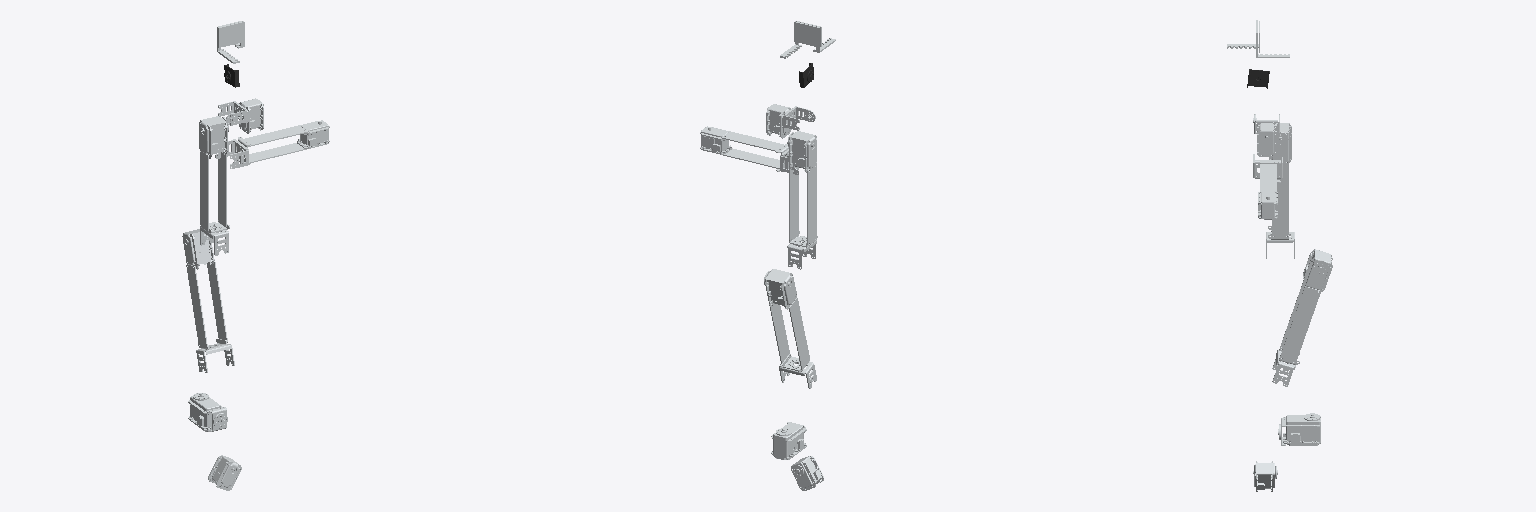
The robot description file, URDF, robot "revel":
<robot name="revel">
   <gazebo>
     <plugin name="gazebo_ros_control" filename="libgazebo_ros_control.so">
       <robotNamespace>/revel/</robotNamespace>
     </plugin>
   </gazebo>

  <link name="world"/>
  <link name="base_link">
    <inertial>
      <origin
        xyz="-0.00133562616624824 -0.00299591002016462 0.0153449295508581"
        rpy="0 0 0" />
      <mass
        value="0.722020764728074" />
      <inertia
        ixx="0.00192032665135544"
        ixy="-1.38171436818506E-05"
        ixz="7.88915046947883E-06"
        iyy="0.00186797485168719"
        iyz="3.14817845967135E-05"
        izz="0.00316707992917207" />
    </inertial>
    <visual>
      <origin
        xyz="0 0 0"
        rpy="0 0 0" />
      <geometry>
        <mesh
          filename="package://svenzva_description/meshes/base_link.STL" />
      </geometry>
      <material
        name="">
        <color
          rgba="0.898039215686275 0.917647058823529 0.929411764705882 1" />
      </material>
    </visual>
    <collision>
      <origin
        xyz="0 0 0"
        rpy="0 0 0" />
      <geometry>
        <mesh
          filename="package://svenzva_description/meshes/base_link.STL" />
      </geometry>
    </collision>
  </link>

  <joint name="world_joint" type="fixed">
    <parent link="world"/>
    <child link="base_link"/>
  </joint>

  <link
    name="link_1">
    <inertial>
      <origin
        xyz="-0.00528149564542819 2.92409530103649E-05 0.0481308455186285"
        rpy="0 0 0" />
      <mass
        value="0.095038974095265" />
      <inertia
        ixx="0.00048302"
        ixy="0.00058791"
        ixz="2.1e-7"
        iyy="3.938e-5"
        iyz="1.7e-7"
        izz="2.65e-5" />
    </inertial>
    <visual>
      <origin
        xyz="0 0 0"
        rpy="0 0 0" />
      <geometry>
        <mesh
          filename="package://svenzva_description/meshes/link_1.STL" />
      </geometry>
      <material
        name="">
        <color
          rgba="0.898039215686275 0.917647058823529 0.929411764705882 1" />
      </material>
    </visual>
    <collision>
      <origin
        xyz="0 0 0"
        rpy="0 0 0" />
      <geometry>
        <mesh
          filename="package://svenzva_description/meshes/link_1.STL" />
      </geometry>
    </collision>
  </link>
  <joint
    name="joint_1"
    type="revolute">
    <origin
      xyz="0 0 0.0762"
      rpy="0 0 0" />
    <parent
      link="base_link" />
    <child
      link="link_1" />
    <axis
      xyz="0 0 -1" />
    <limit
      lower="-3.14"
      upper="3.14"
      effort="100"
      velocity="10" />
  </joint>
  <link
    name="link_2">
    <inertial>
      <origin
        xyz="8.17940782230075E-07 0.125408839850757 0.0120693662786398"
        rpy="0 0 0" />
      <mass
        value="0.350557648873674" />
      <inertia
        ixx="0.00290049583666862"
        ixy="-4.66260243339681E-09"
        ixz="-1.74520760929758E-09"
        iyy="0.000201563465404586"
        iyz="0.000261870918148287"
        izz="0.00282768721300917" />
    </inertial>
    <visual>
      <origin
        xyz="0 0 0"
        rpy="0 0 0" />
      <geometry>
        <mesh
          filename="package://svenzva_description/meshes/link_2.STL" />
      </geometry>
      <material
        name="">
        <color
          rgba="0.898039215686275 0.917647058823529 0.929411764705882 1" />
      </material>
    </visual>
    <collision>
      <origin
        xyz="0 0 0"
        rpy="0 0 0" />
      <geometry>
        <mesh
          filename="package://svenzva_description/meshes/link_2.STL" />
      </geometry>
    </collision>
  </link>
  <joint
    name="joint_2"
    type="revolute">
    <origin
      xyz="-0.007325 0 0.10542"
      rpy="1.5708 0 -1.5708" />
    <parent
      link="link_1" />
    <child
      link="link_2" />
    <axis
      xyz="0 0 -1" />
    <limit
      lower="-2"
      upper="2"
      effort="100"
      velocity="10" />
  </joint>
  <link
    name="link_3">
    <inertial>
      <origin
        xyz="-0.00224918997054324 0.0725742731372729 0.0140957004144005"
        rpy="0 0 0" />
      <mass
        value="0.285860881806706" />
      <inertia
        ixx=".037638726"
        ixy="-0.000981953"
        ixz="-0.000055716"
        iyy="0.002015035"
        iyz="0.001841555"
        izz="0.037151960" />
    </inertial>
    <visual>
      <origin
        xyz="0 0 0"
        rpy="0 0 0" />
      <geometry>
        <mesh
          filename="package://svenzva_description/meshes/link_3.STL" />
      </geometry>
      <material
        name="">
        <color
          rgba="0.898039215686275 0.917647058823529 0.929411764705882 1" />
      </material>
    </visual>
    <collision>
      <origin
        xyz="0 0 0"
        rpy="0 0 0" />
      <geometry>
        <mesh
          filename="package://svenzva_description/meshes/link_3.STL" />
      </geometry>
    </collision>
  </link>
  <joint
    name="joint_3"
    type="revolute">
    <origin
      xyz="0 0.2277 0.00635"
      rpy="3.1416 0 3.1416" />
    <parent
      link="link_2" />
    <child
      link="link_3" />
    <axis
      xyz="0 0 -1" />
    <limit
      lower="-2"
      upper="2"
      effort="100"
      velocity="10" />
  </joint>
  <link
    name="link_4">
    <inertial>
      <origin
        xyz="4.94200978125581E-05 0.00446272782448867 0.0502025183837943"
        rpy="0 0 0" />
      <mass
        value="0.236769" />
      <inertia
        ixx="0.0070477"
        ixy="-0.000006265"
        ixz="0.000000363"
        iyy="0.006356422"
        iyz="0.000438258"
        izz="0.001135842" />
    </inertial>
    <visual>
      <origin
        xyz="0 0 0"
        rpy="0 0 0" />
      <geometry>
        <mesh
          filename="package://svenzva_description/meshes/link_4.STL" />
      </geometry>
      <material
        name="">
        <color
          rgba="0.898039215686275 0.917647058823529 0.929411764705882 1" />
      </material>
    </visual>
    <collision>
      <origin
        xyz="0 0 0"
        rpy="0 0 0" />
      <geometry>
        <mesh
          filename="package://svenzva_description/meshes/link_4.STL" />
      </geometry>
    </collision>
  </link>
  <joint
    name="joint_4"
    type="revolute">
    <origin
      xyz="-0.022225 0.17977 0.0074"
      rpy="1.5708 0 -3.1416" />
    <parent
      link="link_3" />
    <child
      link="link_4" />
    <axis
      xyz="0 0 1" />
    <limit
      lower="-3"
      upper="3"
      effort="10"
      velocity="1" />
  </joint>
  <link
    name="link_5">
    <inertial>
      <origin
        xyz="0.000241023608886559 0.0392574508036669 0.00184531476783182"
        rpy="0 0 0" />
      <mass
        value="0.133021865517638" />
      <inertia
        ixx="0.000108599166071625"
        ixy="3.76551051091788E-07"
        ixz="5.63803866067119E-09"
        iyy="9.94865517767143E-05"
        iyz="2.18016588858829E-06"
        izz="9.08075415393567E-05" />
    </inertial>
    <visual>
      <origin
        xyz="0 0 0"
        rpy="0 0 0" />
      <geometry>
        <mesh
          filename="package://svenzva_description/meshes/link_5.STL" />
      </geometry>
      <material
        name="">
        <color
          rgba="0.898039215686275 0.917647058823529 0.929411764705882 1" />
      </material>
    </visual>
    <collision>
      <origin
        xyz="0 0 0"
        rpy="0 0 0" />
      <geometry>
        <mesh
          filename="package://svenzva_description/meshes/link_5.STL" />
      </geometry>
    </collision>
  </link>
  <joint
    name="joint_5"
    type="revolute">
    <origin
      xyz="0 0.00165 0.07925"
      rpy="1.5708 0 -3.1416" />
    <parent
      link="link_4" />
    <child
      link="link_5" />
    <axis
      xyz="0 0 -1" />
    <limit
      lower="-1.7"
      upper="1.7"
      effort="100"
      velocity="10" />
  </joint>
  <link
    name="link_6">
    <inertial>
      <origin
        xyz="-0.00459904693334756 2.57945888126887E-05 -0.0327482586471116"
        rpy="0 0 0" />
      <mass
        value="0.243320868551208" />
      <inertia
        ixx="0.00016020334766947"
        ixy="-3.96748456837556E-06"
        ixz="1.08510273443082E-05"
        iyy="0.000326394043482595"
        iyz="1.11931196964281E-08"
        izz="0.000294334543327469" />
    </inertial>
    <visual>
      <origin
        xyz="0 0 0"
        rpy="0 0 0" />
      <geometry>
        <mesh
          filename="package://svenzva_description/meshes/link_6.STL" />
      </geometry>
      <material
        name="">
        <color
          rgba="0.250980392156863 0.250980392156863 0.250980392156863 1" />
      </material>
    </visual>
    <collision>
      <origin
        xyz="0 0 0"
        rpy="0 0 0" />
      <geometry>
        <mesh
          filename="package://svenzva_description/meshes/link_6.STL" />
      </geometry>
    </collision>
  </link>
  <joint
    name="joint_6"
    type="revolute">
    <origin
      xyz="-0.01475 0.08 0.001425"
      rpy="1.5708 0 0" />
    <parent
      link="link_5" />
    <child
      link="link_6" />
    <axis
      xyz="0 0 -1" />
    <limit
      lower="-1.6"
      upper="1.6"
      effort="100"
      velocity="10" />
  </joint>
  <link
    name="finger_link_1">
    <inertial>
      <origin
        xyz="-0.00483282204262809 -0.00411403012500923 0.0206210772714723"
        rpy="0 0 1.5708" />
      <mass
        value="0.0220307791071739" />
      <inertia
        ixx="9.08331950596468E-06"
        ixy="-2.05394082888464E-06"
        ixz="-2.23772944669454E-06"
        iyy="1.04239718244321E-05"
        iyz="-2.75990314800171E-06"
        izz="9.60841591398502E-06" />
    </inertial>
    <visual>
      <origin
        xyz="0 0 0"
        rpy="0 0 1.5708" />
      <geometry>
        <mesh
          filename="package://svenzva_description/meshes/finger_link_1.STL" />
      </geometry>
      <material
        name="">
        <color
          rgba="0.898039215686275 0.917647058823529 0.929411764705882 1" />
      </material>
    </visual>
    <collision>
      <origin
        xyz="0 0 0"
        rpy="0 0 0" />
      <geometry>
        <mesh
          filename="package://svenzva_description/meshes/finger_link_1.STL" />
      </geometry>
    </collision>
  </link>
  <joint
    name="finger_joint_1"
    type="prismatic">
    <origin
      xyz="0 0 -0.052509"
      rpy="-3.1416 -1.8964E-18 3.1416" />
    <parent
      link="link_6" />
    <child
      link="finger_link_1" />
    <axis
      xyz="-1 0 0" />
    <limit
      lower="0"
      upper="0.05"
      effort="100"
      velocity="10" />
  </joint>
  <link
    name="finger_joint_2">
    <inertial>
      <origin
        xyz="0.00483282233149502 0.00411402197005728 0.020621076918268"
        rpy="0 0 1.5708" />
      <mass
        value="0.0220307791071739" />
      <inertia
        ixx="9.08331950596466E-06"
        ixy="-2.05394082888463E-06"
        ixz="2.23772944669453E-06"
        iyy="1.04239718244321E-05"
        iyz="2.75990314800169E-06"
        izz="9.60841591398501E-06" />
    </inertial>
    <visual>
      <origin
        xyz="0 0 0"
        rpy="0 0 1.5708" />
      <geometry>
        <mesh
          filename="package://svenzva_description/meshes/finger_joint_2.STL" />
      </geometry>
      <material
        name="">
        <color
          rgba="0.898039215686275 0.917647058823529 0.929411764705882 1" />
      </material>
    </visual>
    <collision>
      <origin
        xyz="0 0 0"
        rpy="0 0 0" />
      <geometry>
        <mesh
          filename="package://svenzva_description/meshes/finger_joint_2.STL" />
      </geometry>
    </collision>
  </link>
  <joint
    name="finger_joint_2"
    type="prismatic">
    <origin
      xyz="0 0 -0.052509"
      rpy="-3.1416 -1.8964E-18 3.1416" />
    <parent
      link="link_6" />
    <child
      link="finger_joint_2" />
    <axis
      xyz="-1 0 0" />
    <limit
      lower="-0.05"
      upper="0"
      effort="100"
      velocity="10" />
  </joint>


  <transmission name="joint_1_trans">
    <type>transmission_interface/SimpleTransmission</type>
    <joint name="joint_1">
      <hardwareInterface>EffortJointInterface</hardwareInterface>
    </joint>
    <actuator name="motor_1">
      <mechanicalReduction>4</mechanicalReduction>
      <hardwareInterface>EffortJointInterface</hardwareInterface>
    </actuator>
  </transmission>

  <transmission name="joint_2_trans">
    <type>transmission_interface/SimpleTransmission</type>
    <joint name="joint_2">
      <hardwareInterface>EffortJointInterface</hardwareInterface>
    </joint>
  <actuator name="motor_2">
    <mechanicalReduction>6</mechanicalReduction>
    <hardwareInterface>EffortJointInterface</hardwareInterface>
  </actuator>
  </transmission>

  <transmission name="joint_3_trans">
    <type>transmission_interface/SimpleTransmission</type>
    <joint name="joint_3">
      <hardwareInterface>EffortJointInterface</hardwareInterface>
    </joint>
  <actuator name="motor_3">
    <mechanicalReduction>6</mechanicalReduction>
    <hardwareInterface>EffortJointInterface</hardwareInterface>
  </actuator>
  </transmission>

  <transmission name="joint_4_trans">
    <type>transmission_interface/SimpleTransmission</type>
    <joint name="joint_4">
      <hardwareInterface>EffortJointInterface</hardwareInterface>
    </joint>
  <actuator name="motor_4">
    <mechanicalReduction>1</mechanicalReduction>
    <hardwareInterface>EffortJointInterface</hardwareInterface>
  </actuator>
  </transmission>

  <transmission name="joint_5_trans">
    <type>transmission_interface/SimpleTransmission</type>
    <joint name="joint_5">
      <hardwareInterface>EffortJointInterface</hardwareInterface>
    </joint>
  <actuator name="motor_5">
    <mechanicalReduction>4</mechanicalReduction>
    <hardwareInterface>EffortJointInterface</hardwareInterface>
  </actuator>
  </transmission>

  <transmission name="joint_6_trans">
    <type>transmission_interface/SimpleTransmission</type>
    <joint name="joint_6">
      <hardwareInterface>EffortJointInterface</hardwareInterface>
    </joint>
  <actuator name="motor_6">
    <mechanicalReduction>1</mechanicalReduction>
    <hardwareInterface>EffortJointInterface</hardwareInterface>
  </actuator>
  </transmission>


</robot>

--- Render facts (derived) ---
3 views of the same robot in one strip: view 1: azimuth 30°, elevation 25°; view 2: azimuth 150°, elevation 25°; view 3: azimuth 270°, elevation 25° (orthographic).
Robot: revel — 10 links, 9 joints (6 revolute, 2 prismatic, 1 fixed); root link world; default pose: all joints at 0.
Links seen in each view (by area): view 1: link_3, link_2, link_4, link_1, link_5, base_link, finger_joint_2; view 2: link_3, link_2, link_4, link_5, link_1, base_link, finger_link_1; view 3: link_2, link_3, link_4, link_1, link_5, base_link.
Link boxes in pixels (x1,y1,x2,y2): link_3: [199, 116, 229, 255]; link_2: [182, 229, 234, 372]; link_4: [215, 120, 329, 168]; link_1: [188, 393, 227, 431]; link_5: [218, 98, 263, 133]; base_link: [208, 455, 241, 490]; finger_joint_2: [218, 21, 244, 48]; link_3: [787, 131, 817, 269]; link_2: [764, 269, 816, 388]; link_4: [700, 126, 798, 174]; link_5: [766, 104, 815, 138]; link_1: [771, 422, 806, 459]; base_link: [791, 456, 823, 490]; finger_link_1: [794, 21, 835, 52]; link_2: [1272, 249, 1332, 386]; link_3: [1266, 123, 1294, 258]; link_4: [1253, 154, 1282, 219]; link_1: [1278, 413, 1320, 445]; link_5: [1253, 114, 1279, 156]; base_link: [1253, 461, 1277, 491].
Size in the robot's own frame: 0.2343 by 0.1817 by 0.8857 metres.
Meshes: 9 distinct files referenced, 9 mesh visuals loaded (9 binary STL).
